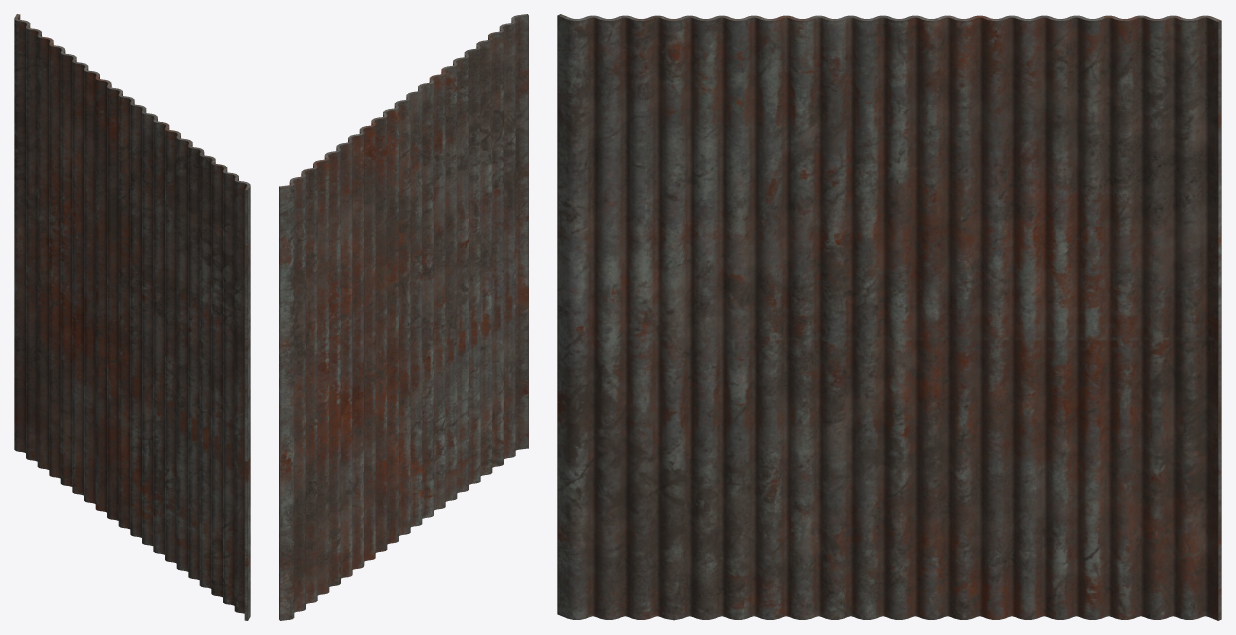
File: SM_CorrugatedMetal_01.glb
The picture shows the model from 3 angles, left to right: view 1: azimuth 30°, elevation 25°; view 2: azimuth 150°, elevation 25°; view 3: azimuth 270°, elevation 25°; orthographic projection. The views are drawn at different scales.
Visible parts, largest first — view 1: SM_CorrugatedMetal_01; view 2: SM_CorrugatedMetal_01; view 3: SM_CorrugatedMetal_01.
Boxes of the visible parts, left/top/right/bottom form: SM_CorrugatedMetal_01: left=14, top=14, right=250, bottom=620; SM_CorrugatedMetal_01: left=279, top=14, right=528, bottom=620; SM_CorrugatedMetal_01: left=557, top=14, right=1221, bottom=620.
Size of the model in its own units: 0.0579 by 2 by 2.01.
Materials: 1 (1 with a texture image).
